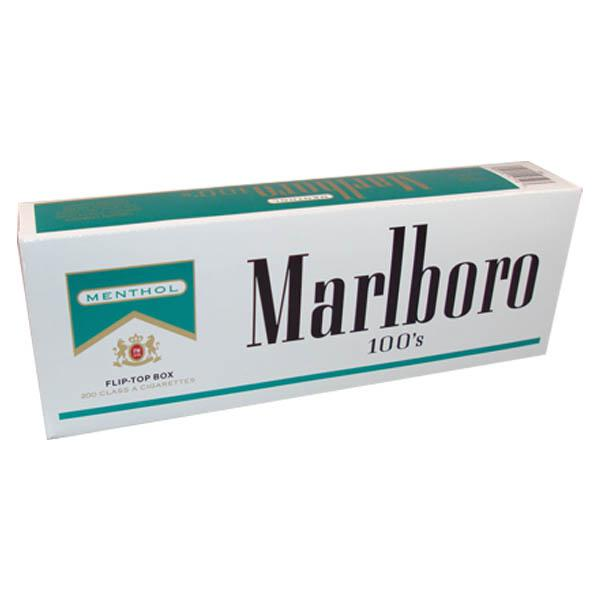marlboro_mentol: (75, 271, 192, 411)
